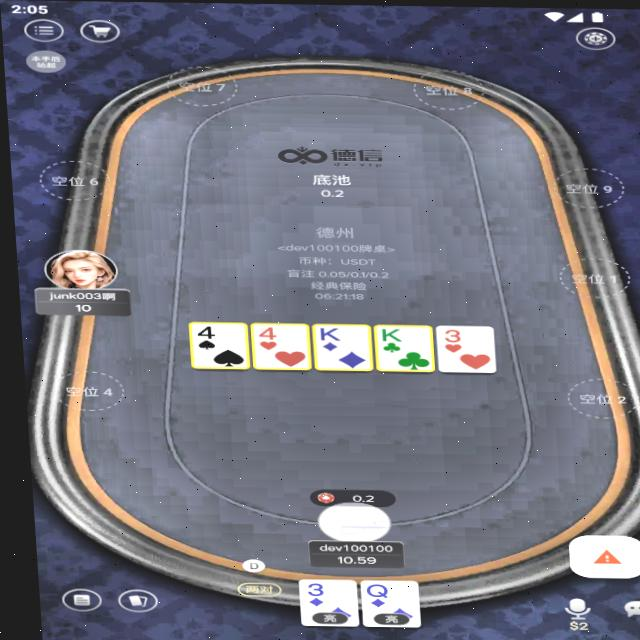3f: (294, 581, 321, 597)
3h: (433, 327, 467, 343)
4h: (247, 324, 281, 341)
4s: (189, 324, 215, 340)
Kf: (312, 324, 339, 341)
Km: (375, 325, 401, 342)
Qf: (353, 582, 387, 598)
